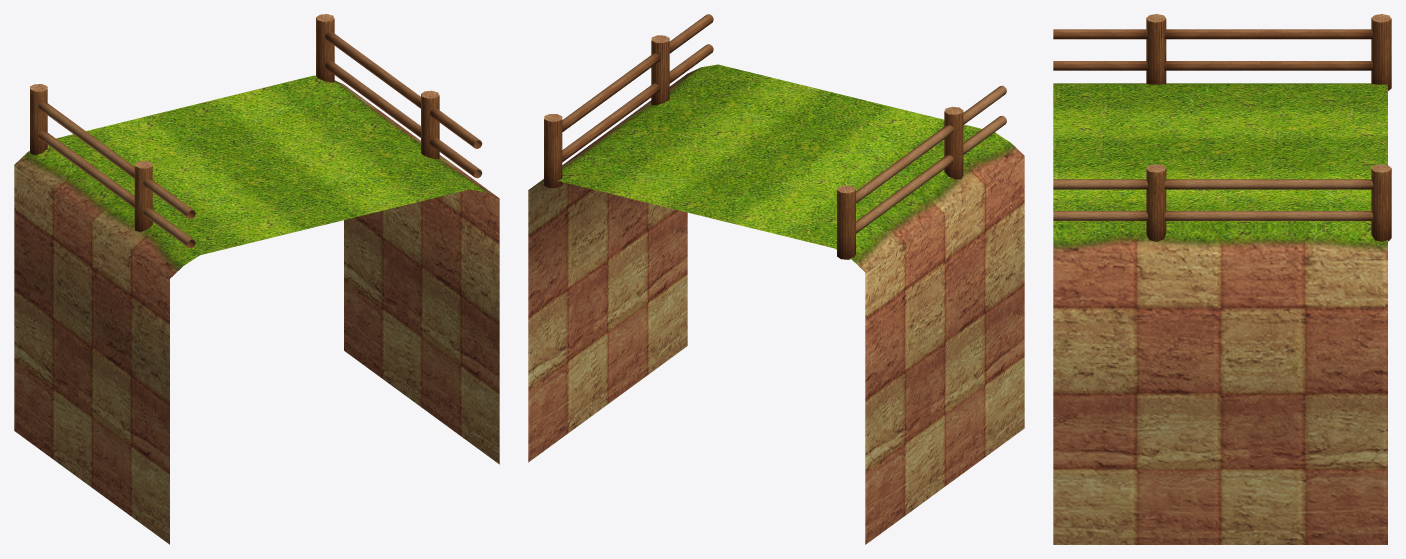
Rendered from Ground02.FBX.
3 renders of one model, left to right at view 1: azimuth 30°, elevation 25°; view 2: azimuth 150°, elevation 25°; view 3: azimuth 270°, elevation 25°, orthographic. The views are drawn at different scales.
Visible parts, largest first — view 1: Ground, Fence; view 2: Ground, Fence; view 3: Ground, Fence.
Part boxes in pixels (x1,y1,x2,y2): Ground: (14, 75, 499, 544); Fence: (30, 14, 482, 248); Ground: (528, 64, 1024, 544); Fence: (544, 14, 1006, 259); Ground: (1053, 83, 1387, 544); Fence: (1053, 14, 1391, 241).
Size of the model in its own units: 4.65 by 4.59 by 3.85.
